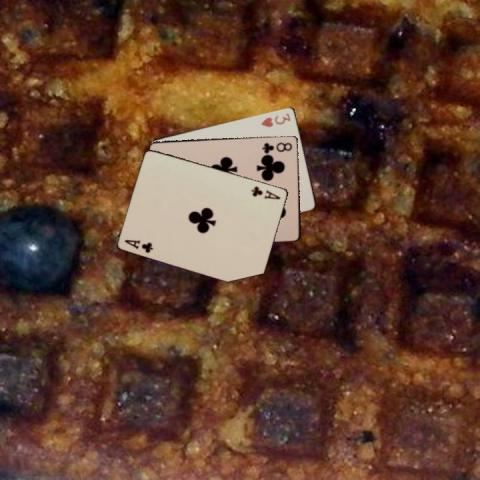3h: (258, 110, 292, 128)
8c: (260, 140, 294, 154)
Ac: (249, 183, 282, 200), (122, 237, 155, 254)
